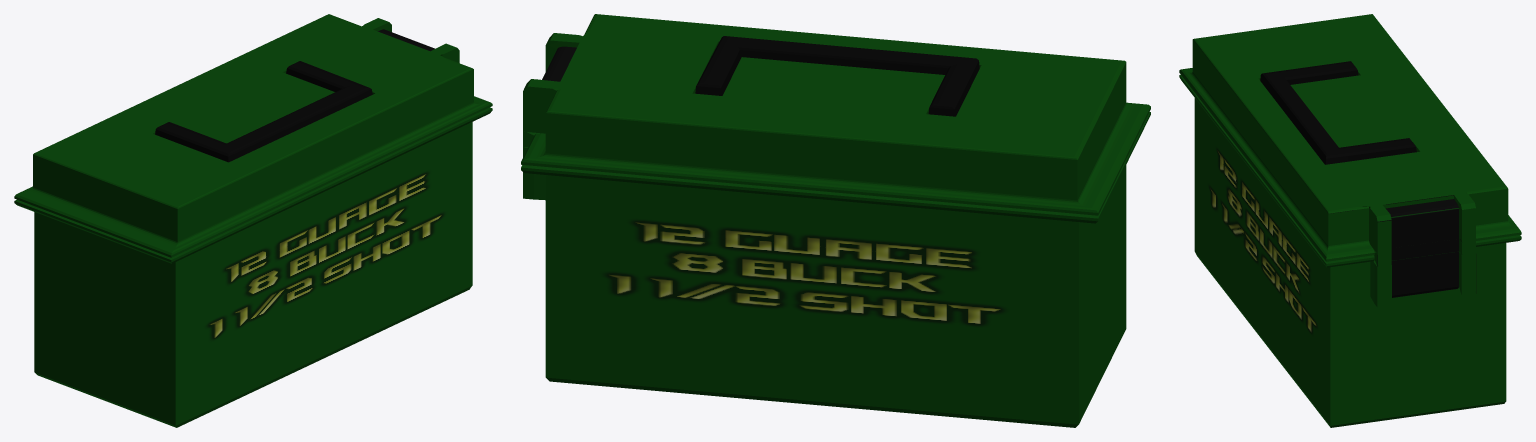
Rendered from AmmoCrate.fbx.
The picture shows the model from 3 angles, left to right: view 1: azimuth 30°, elevation 25°; view 2: azimuth 150°, elevation 25°; view 3: azimuth 270°, elevation 25°; orthographic projection. The views are drawn at different scales.
Parts seen in each view (by area): view 1: AmmoCrate; view 2: AmmoCrate; view 3: AmmoCrate.
Boxes of the visible parts, x1,y1,x2,y2 form: AmmoCrate: [14, 14, 492, 427]; AmmoCrate: [521, 14, 1150, 427]; AmmoCrate: [1179, 14, 1521, 427].
Size of the model in its own units: 113 by 54.73 by 75.85.
Materials: 2 (1 with a texture image).
